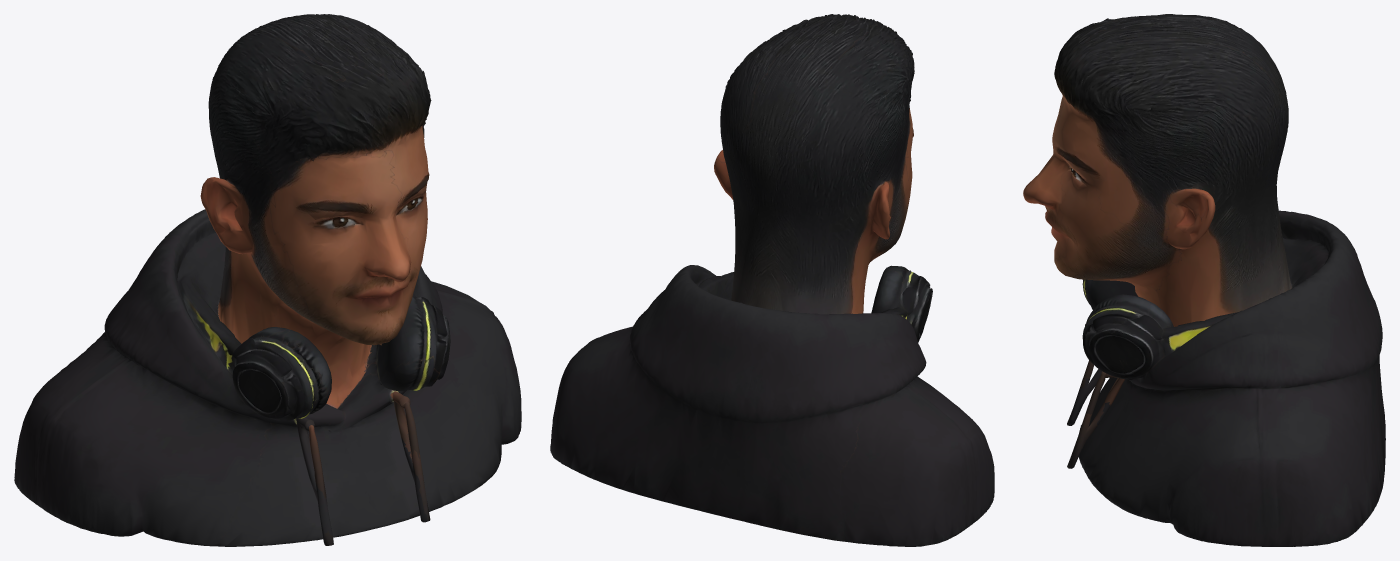
Rendered from sonujeet-v23.glb.
3 views of the same model, side by side, from view 1: azimuth 30°, elevation 25°; view 2: azimuth 150°, elevation 25°; view 3: azimuth 270°, elevation 25° (orthographic). The views are drawn at different scales.
Parts seen in each view (by area): view 1: model; view 2: model; view 3: model.
Part boxes in pixels (<box>): model: <box>14,14,521,546</box>; model: <box>550,14,994,546</box>; model: <box>1023,14,1385,546</box>.
Size of the model in its own units: 1.9 by 1.83 by 1.43.
Materials: 1 (1 with a texture image).
